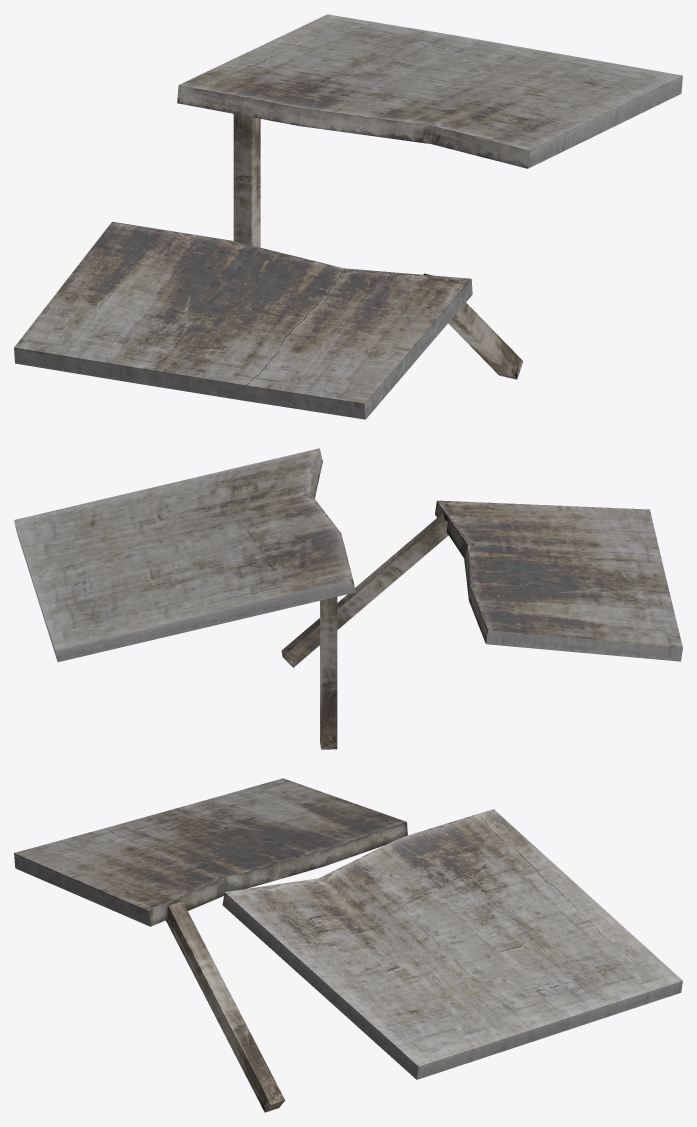
Rendered from Bridge.fbx.
3 renders of one model, top to bottom at view 1: azimuth 30°, elevation 25°; view 2: azimuth 150°, elevation 25°; view 3: azimuth 270°, elevation 25°, orthographic. The views are drawn at different scales.
Visible parts, largest first — view 1: Bridge; view 2: Bridge; view 3: Bridge.
Part boxes in pixels (bbox=[...]): Bridge: bbox=[14, 14, 682, 419]; Bridge: bbox=[14, 448, 682, 749]; Bridge: bbox=[14, 778, 682, 1112].
Size of the model in its own units: 1861 by 592 by 1662.
